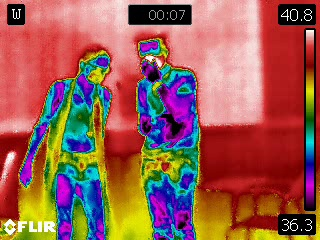human: (18, 43, 115, 240), (131, 30, 207, 240)
